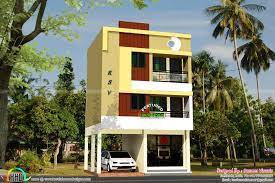Building House: (86, 20, 195, 171)
